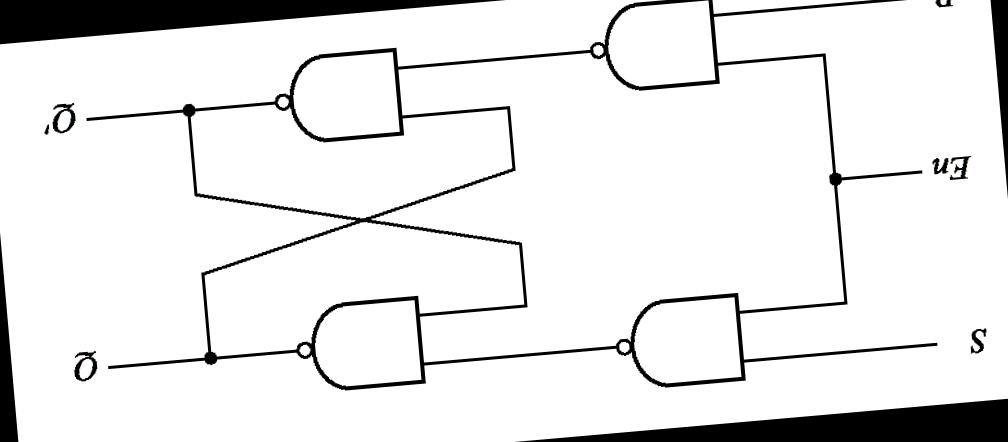nand: (604, 284, 752, 402), (284, 286, 433, 402), (575, 0, 727, 104), (262, 42, 408, 150)
